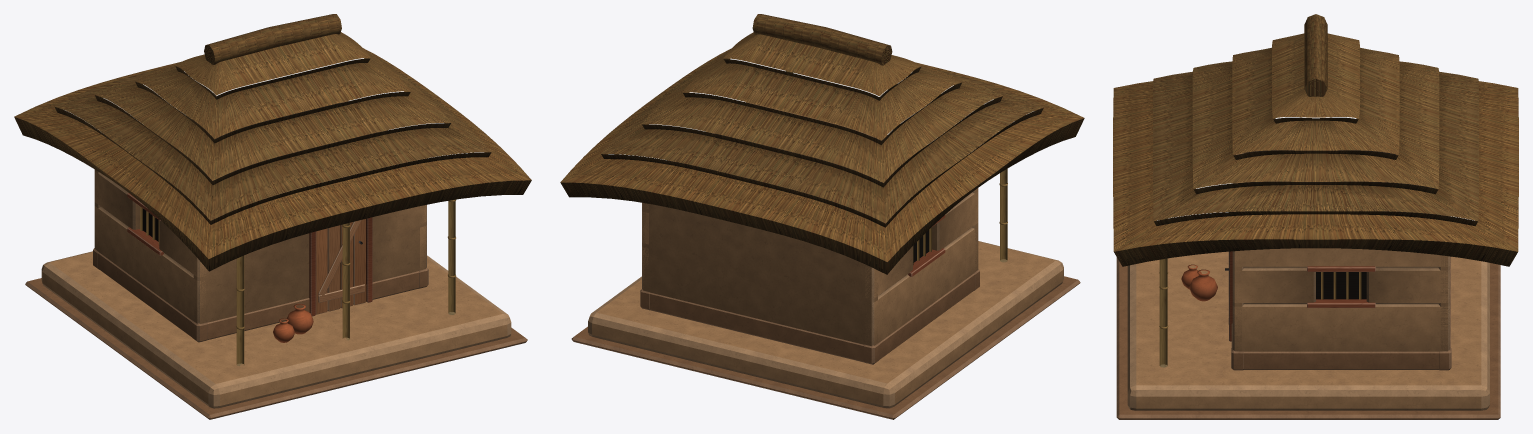
Rendered from thatch_hut.glb.
The picture shows the model from 3 angles, left to right: view 1: azimuth 30°, elevation 25°; view 2: azimuth 150°, elevation 25°; view 3: azimuth 270°, elevation 25°; orthographic projection. The views are drawn at different scales.
Parts seen in each view (by area): view 1: roof, walls; view 2: roof, walls; view 3: roof, walls.
Part boxes in pixels (x1,y1,x2,y2): roof: [14, 14, 531, 271]; walls: [25, 101, 527, 419]; roof: [560, 14, 1084, 274]; walls: [571, 71, 1080, 419]; roof: [1113, 14, 1518, 266]; walls: [1116, 150, 1500, 419].
Size of the model in its own units: 5.43 by 4.51 by 5.6.
4 materials, 3 textured.
